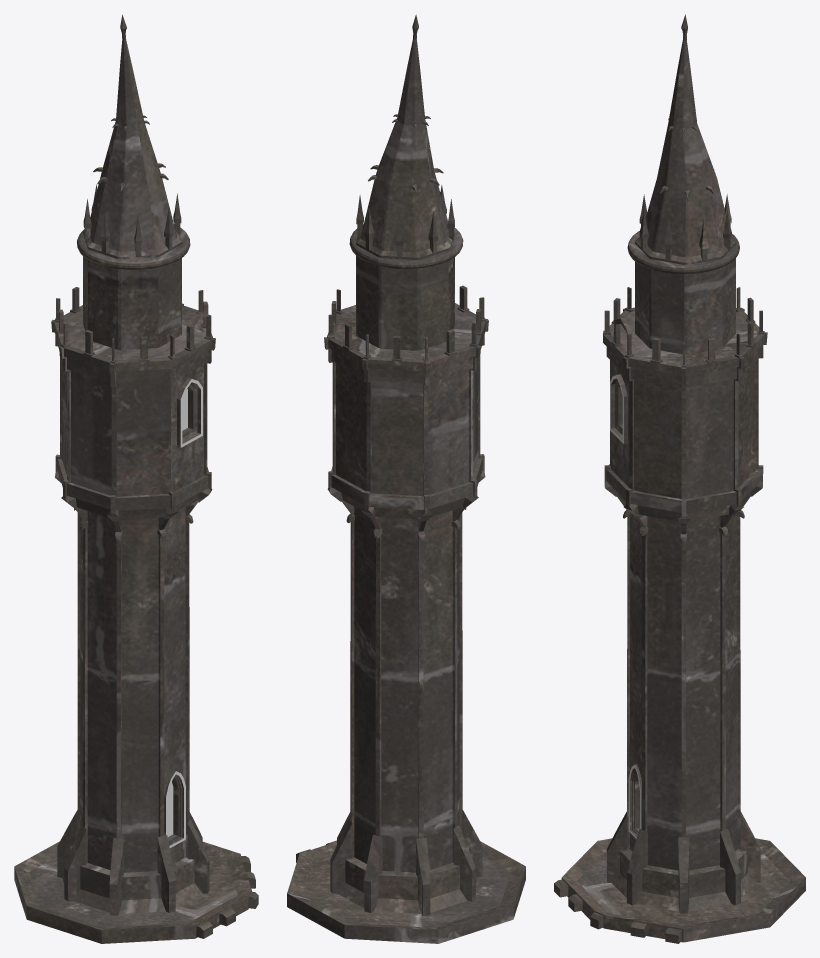
File: CastleTower.fbx
3 renders of one model, left to right at view 1: azimuth 30°, elevation 25°; view 2: azimuth 150°, elevation 25°; view 3: azimuth 270°, elevation 25°, orthographic.
Parts seen in each view (by area): view 1: Cylinder; view 2: Cylinder; view 3: Cylinder.
Part boxes in pixels (x1,y1,x2,y2): Cylinder: [14, 14, 258, 943]; Cylinder: [287, 14, 525, 943]; Cylinder: [554, 14, 805, 943].
Size of the model in its own units: 467 by 1796 by 469.
